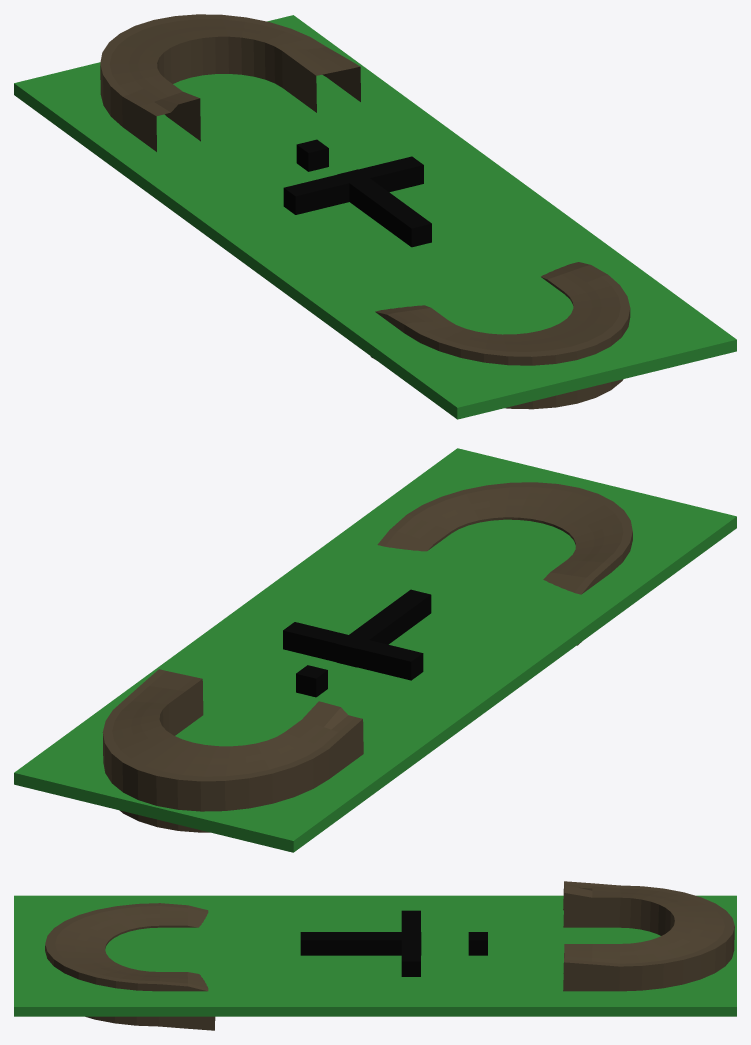
File: TestTrack.fbx
3 views of the same model, one above another, from view 1: azimuth 30°, elevation 25°; view 2: azimuth 150°, elevation 25°; view 3: azimuth 270°, elevation 25° (orthographic). The views are drawn at different scales.
Parts seen in each view (by area): view 1: 立方体.003, Circle.005, Circle.001, Circle.003, Circle.002, Circle.004; view 2: 立方体.003, Circle.005, Circle.001, Circle.003, Circle.002, Circle.004; view 3: 立方体.003, Circle.005, Circle.001, Circle.002, Circle.003, Circle.004.
Boxes of the visible parts, x1,y1,x2,y2 form: 立方体.003: (14, 15, 736, 419); Circle.005: (100, 14, 360, 151); Circle.001: (370, 262, 630, 409); Circle.003: (283, 156, 423, 214); Circle.002: (337, 169, 431, 247); Circle.004: (296, 139, 328, 171); 立方体.003: (14, 448, 736, 852); Circle.005: (102, 669, 363, 832); Circle.001: (377, 482, 632, 645); Circle.003: (283, 622, 423, 680); Circle.002: (336, 589, 431, 667); Circle.004: (296, 665, 327, 697); 立方体.003: (14, 895, 736, 1016); Circle.005: (563, 881, 734, 991); Circle.001: (45, 903, 215, 1030); Circle.002: (300, 932, 421, 955); Circle.003: (401, 910, 420, 976); Circle.004: (468, 932, 487, 955).
Size of the model in its own units: 11896 by 3992 by 32692.
